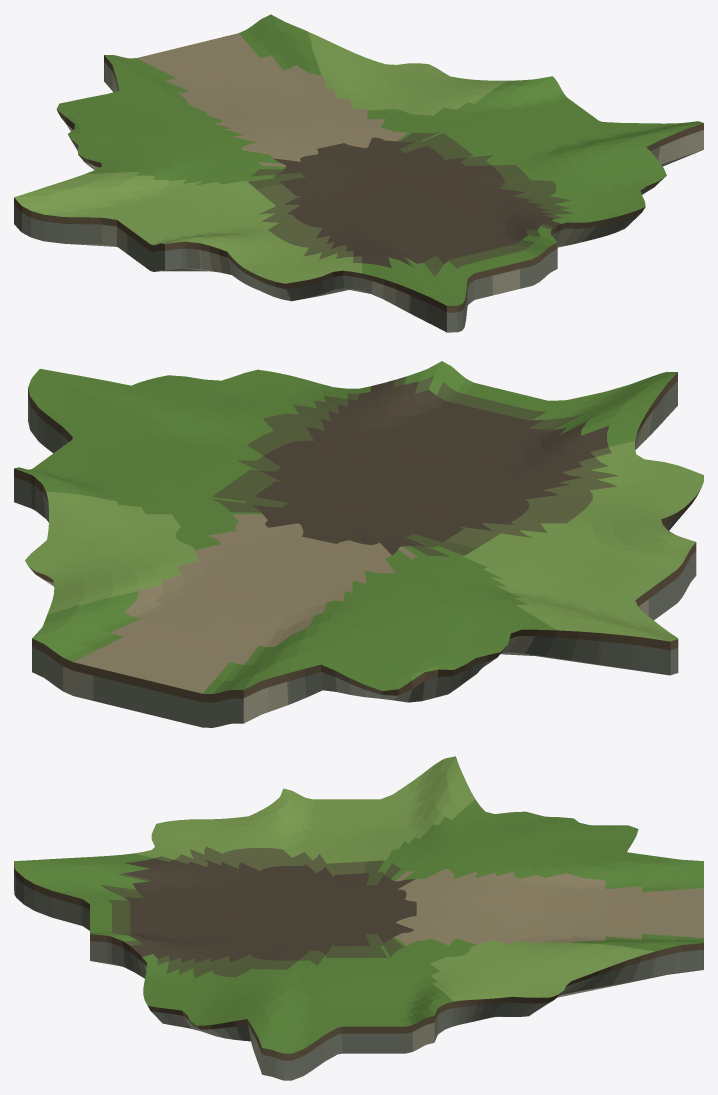
File: cap_cave_mouth_structure.fbx
3 renders of one model, top to bottom at view 1: azimuth 30°, elevation 25°; view 2: azimuth 150°, elevation 25°; view 3: azimuth 270°, elevation 25°, orthographic. The views are drawn at different scales.
Parts seen in each view (by area): view 1: chunk_cap_cave_mouth; view 2: chunk_cap_cave_mouth; view 3: chunk_cap_cave_mouth.
Part boxes in pixels (x1,y1,x2,y2): chunk_cap_cave_mouth: [14, 14, 703, 332]; chunk_cap_cave_mouth: [14, 361, 703, 727]; chunk_cap_cave_mouth: [14, 756, 703, 1080].
Size of the model in its own units: 256 by 41.65 by 256.
